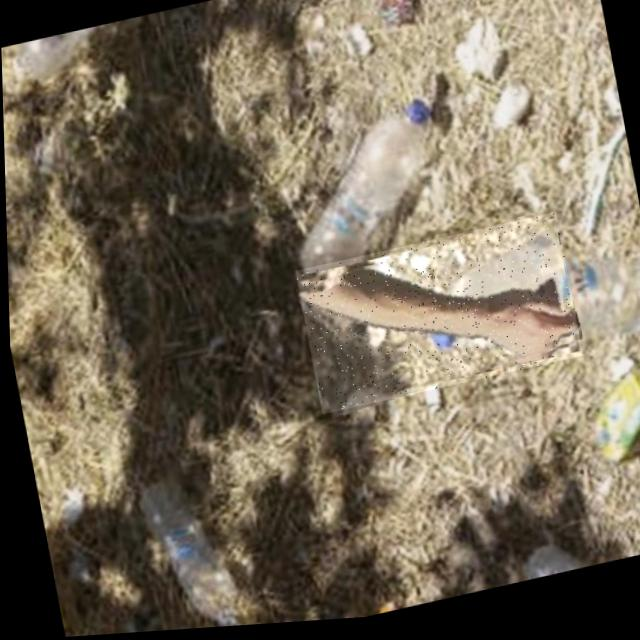Person in Rubble: (292, 217, 582, 419)
